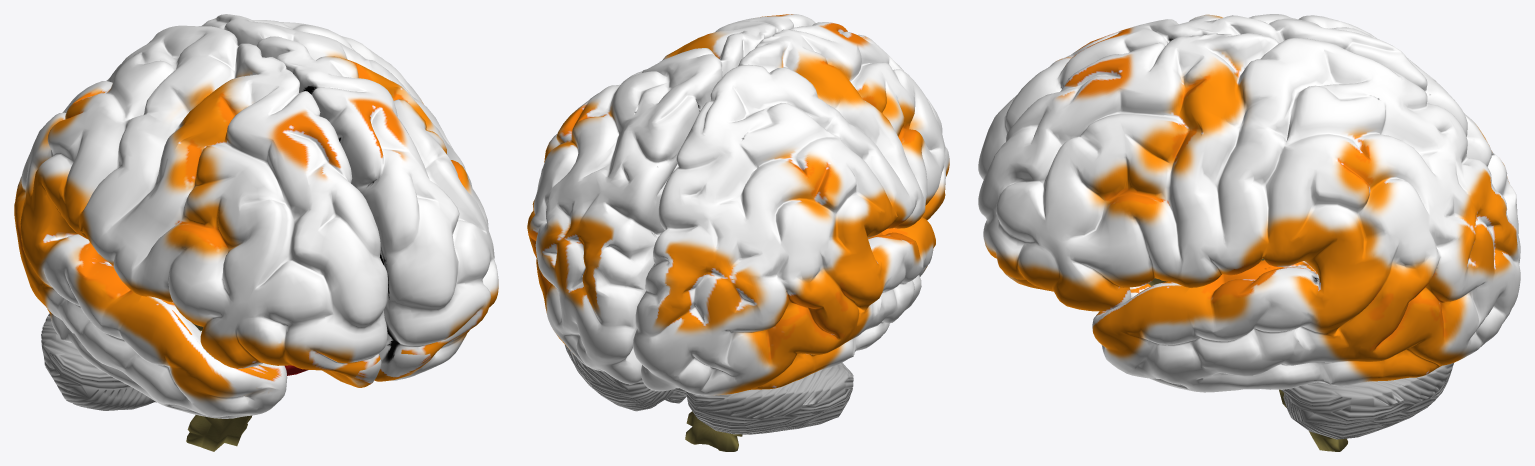
File: brainCompV1.glb
3 renders of one model, left to right at view 1: azimuth 30°, elevation 25°; view 2: azimuth 150°, elevation 25°; view 3: azimuth 270°, elevation 25°, orthographic. The views are drawn at different scales.
Visible parts, largest first — view 1: Brain; view 2: Brain; view 3: Brain.
Part boxes in pixels (x1,y1,x2,y2): Brain: (14, 14, 498, 451); Brain: (527, 14, 949, 451); Brain: (978, 14, 1520, 451).
Size of what is drawn, in the model's own units: 1.76 by 1.86 by 2.18.
3 materials, 2 textured.
